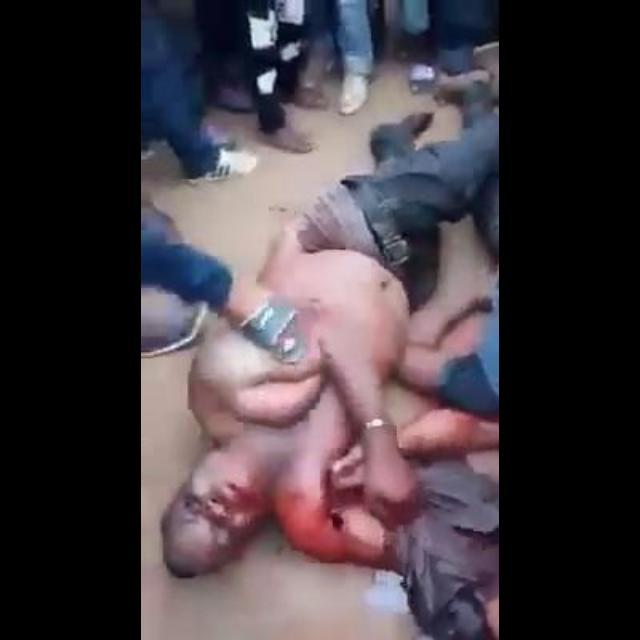blood: (191, 453, 421, 575)
